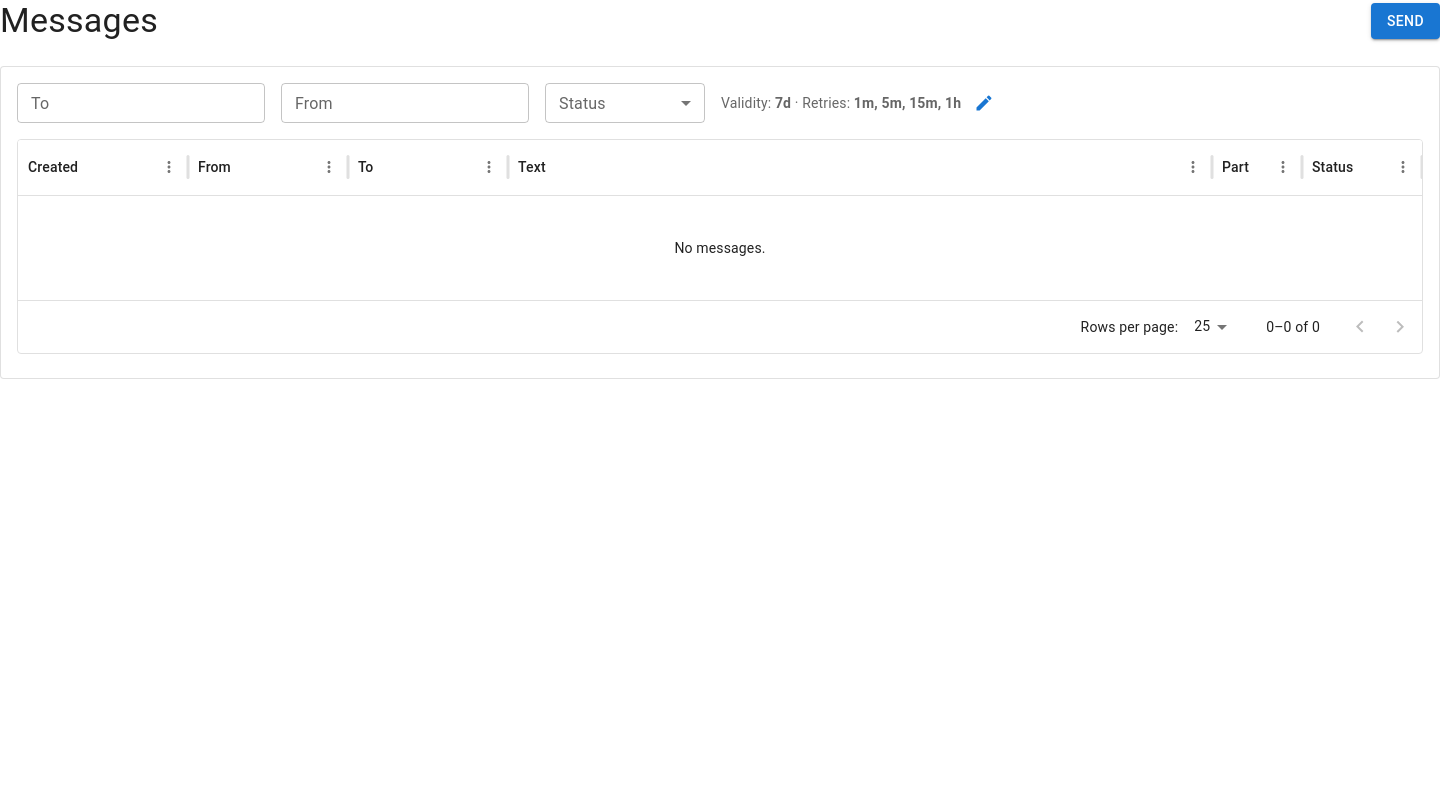
Messages delivery settings › shows and updates the validity and retries
This screenshot has width=1440, height=810.
Expected: the element with test id "delivery-settings" reads "Validity: 7d · Retries: 1m, 5m, 15m, 1h", [721, 83, 999, 123]
Click the button named "Edit delivery". click: (984, 103)
box: [969, 88, 999, 118]
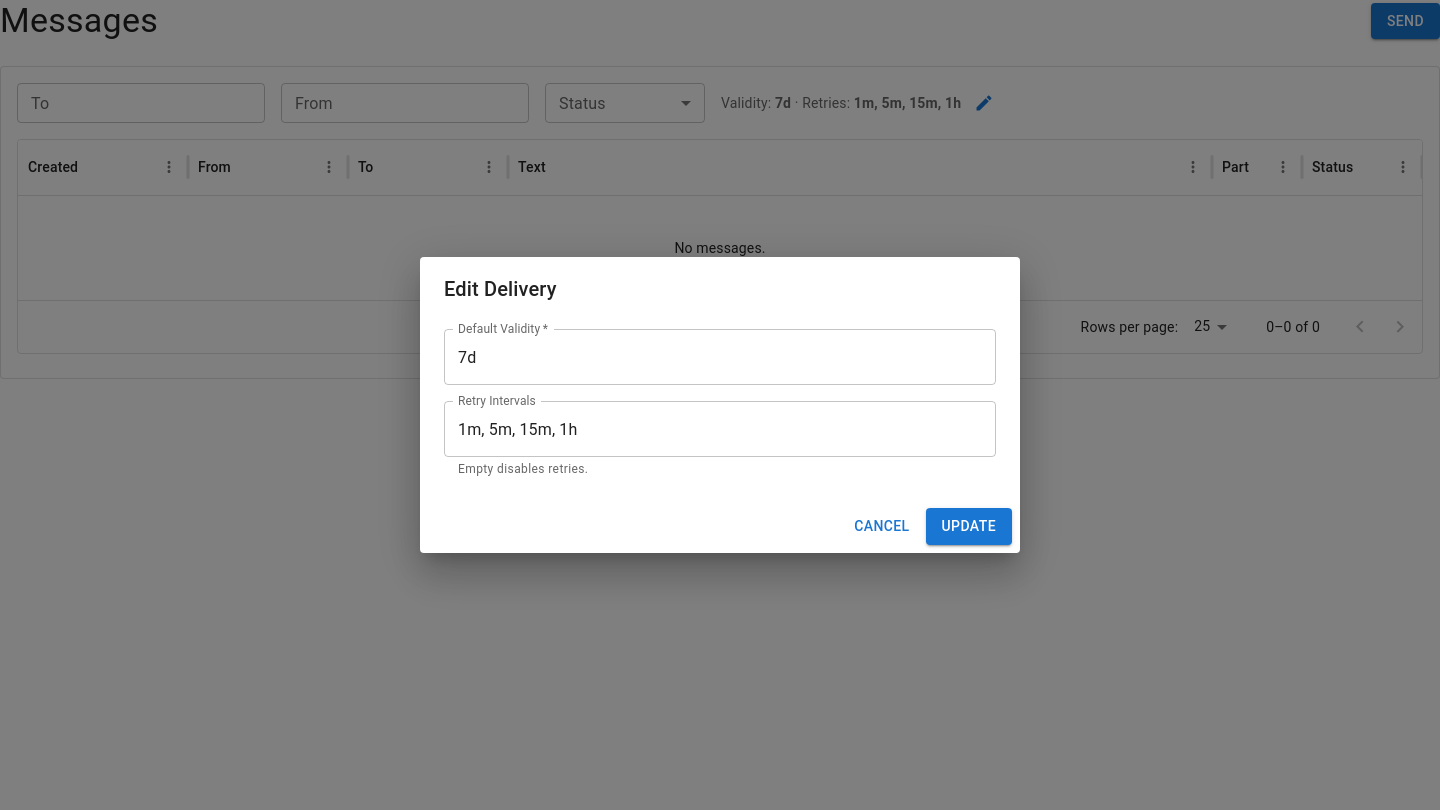
Replace the text in the field labelled "Default Validity" with "1 week". click: (720, 357)
box: [444, 329, 996, 385]
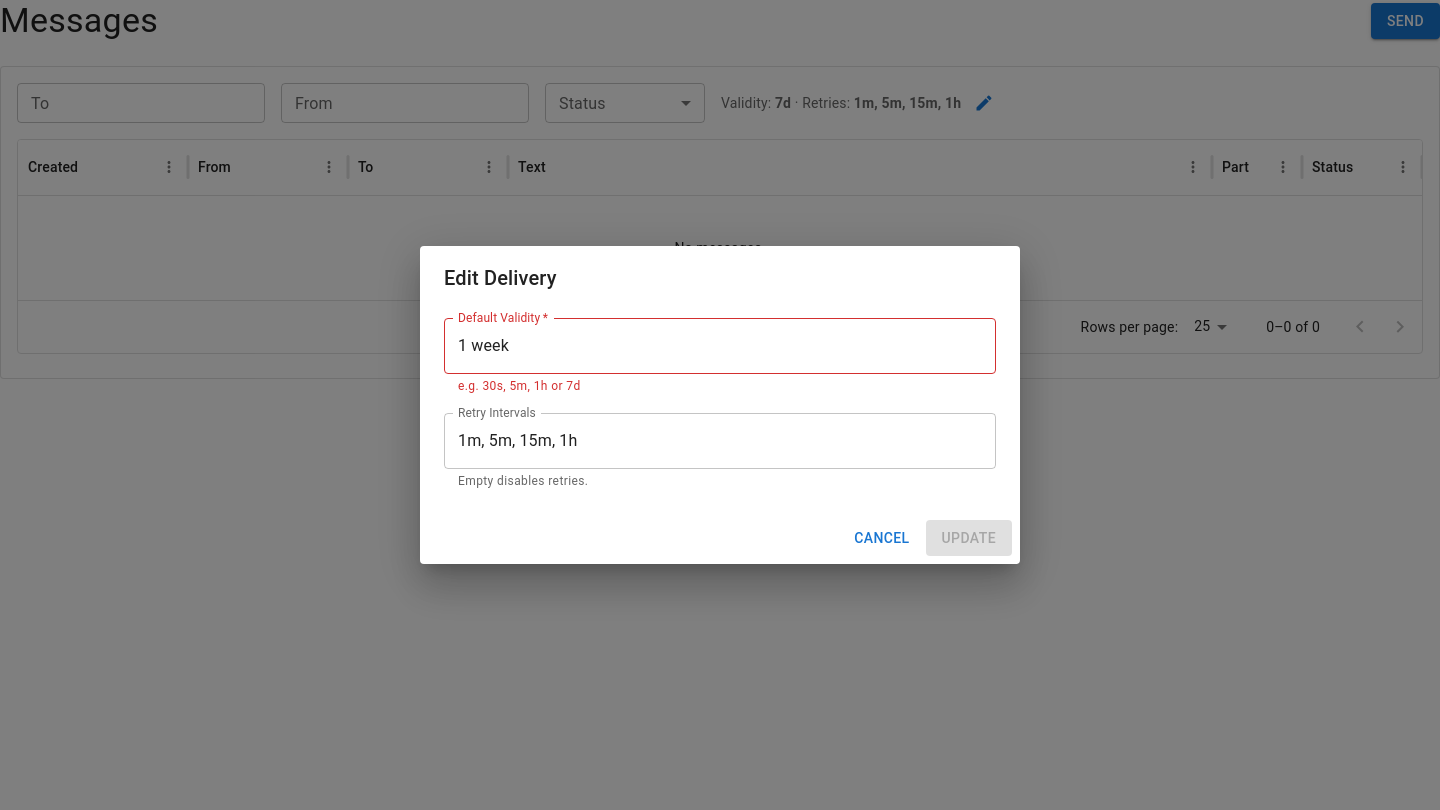
Expected: the text "e.g. 30s, 5m, 1h or 7d" is shown, [458, 379, 581, 393]
Expected: the button "Update" is disabled, [926, 520, 1012, 556]
Replace the text in the field labelled "Default Validity" with "2d". click: (720, 346)
box: [444, 318, 996, 374]
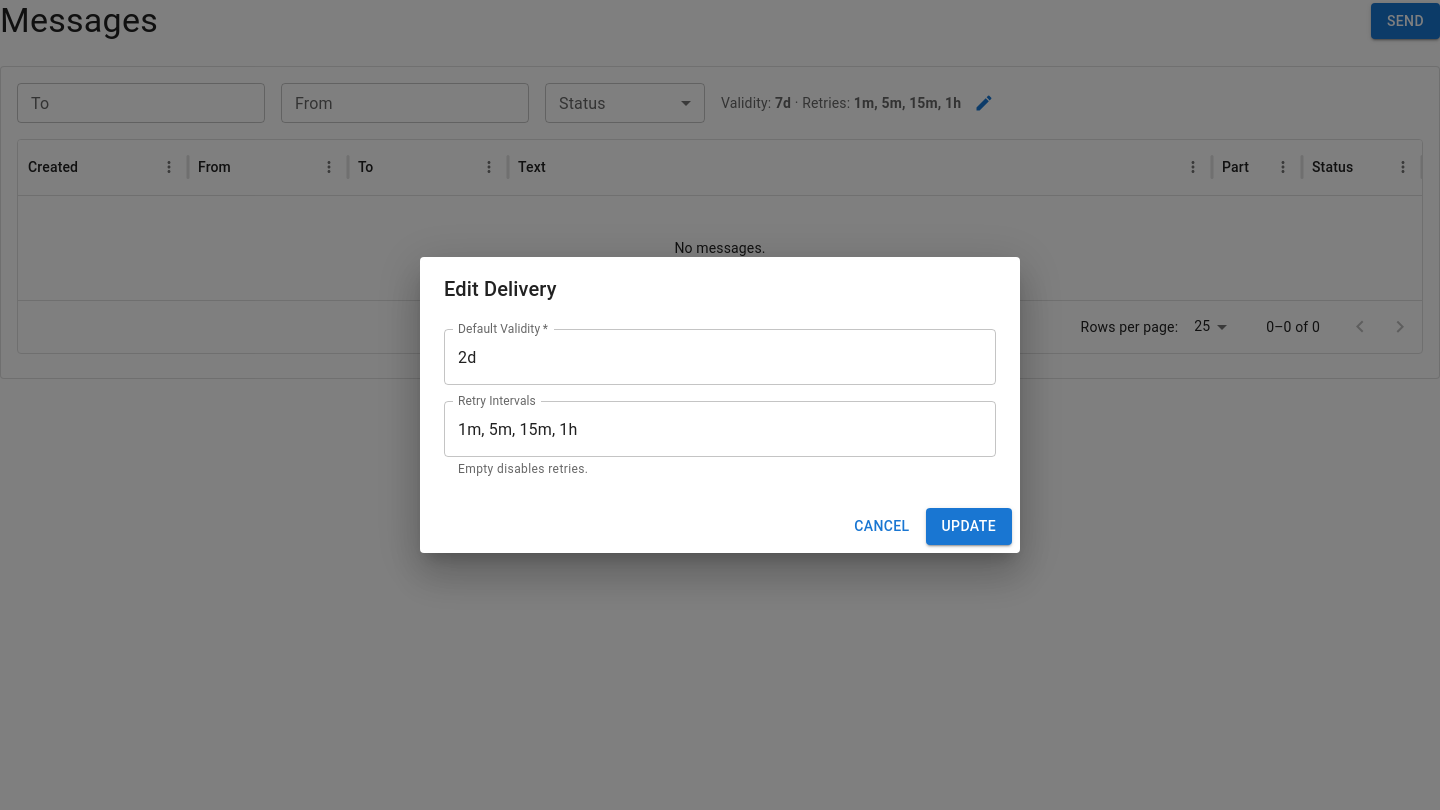
Clear the field labelled "Retry Intervals". click: (720, 429)
box: [444, 401, 996, 457]
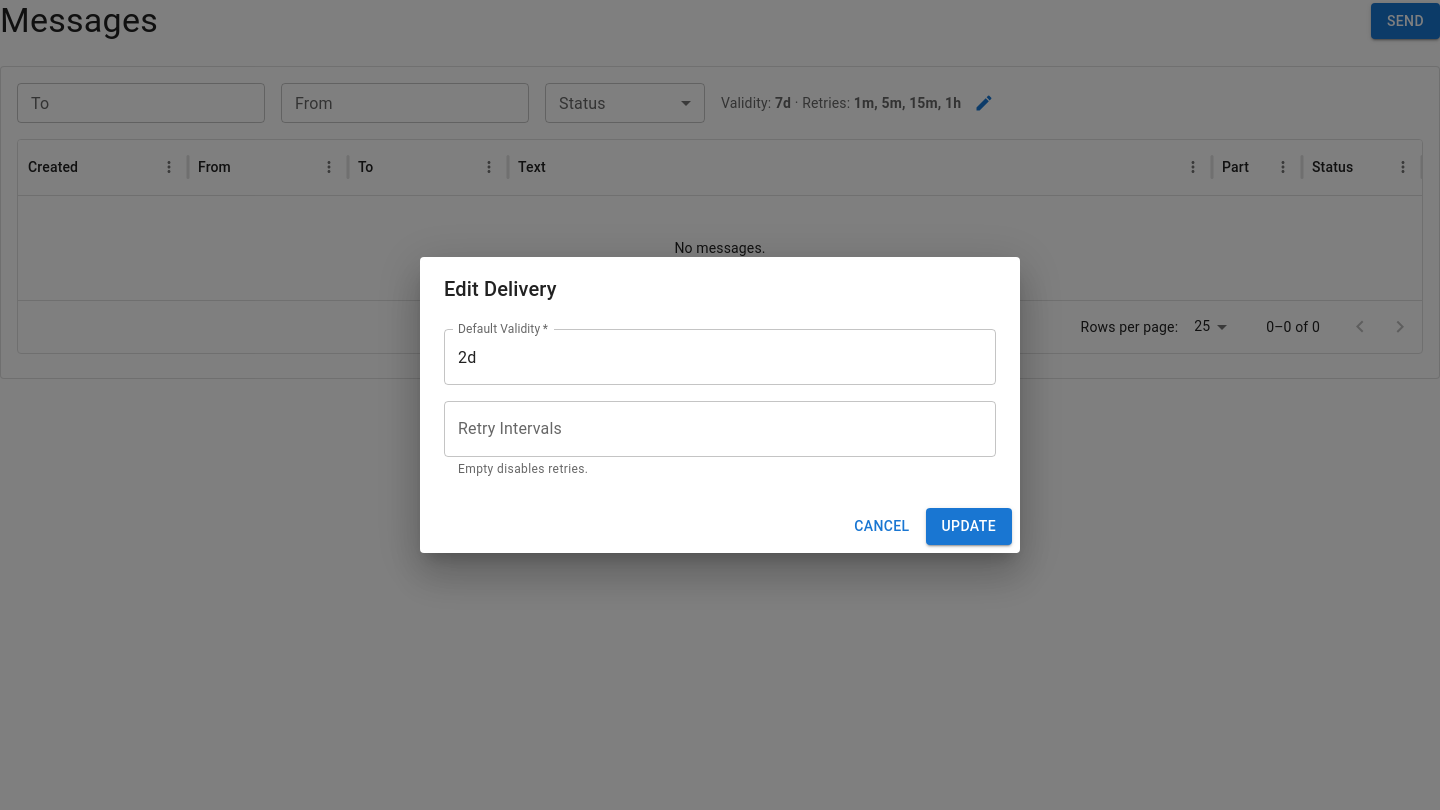
Click the button "Update". click: (969, 526)
box: [926, 508, 1012, 545]
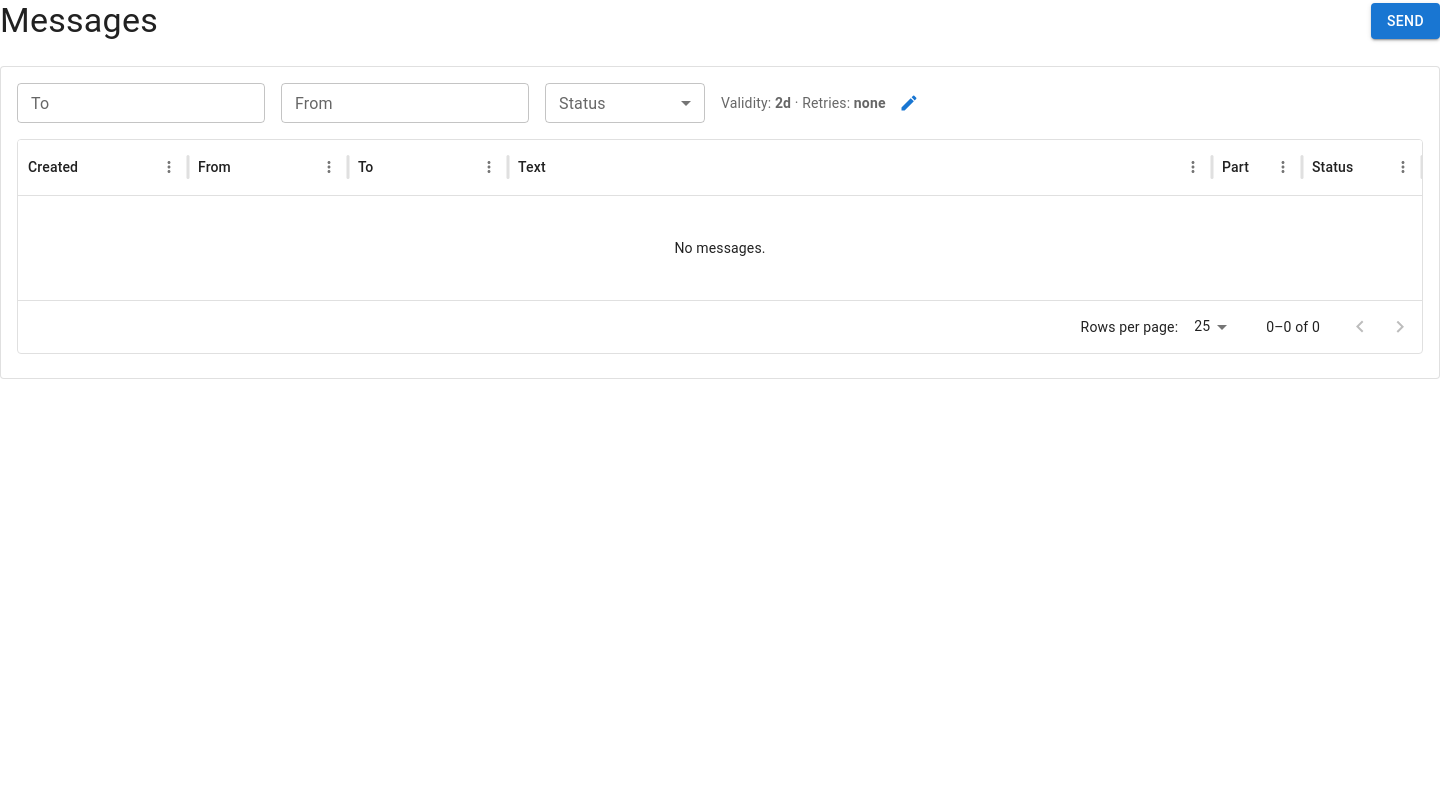
Expected: the element with test id "delivery-settings" reads "Validity: 2d · Retries: none", [721, 83, 924, 123]
